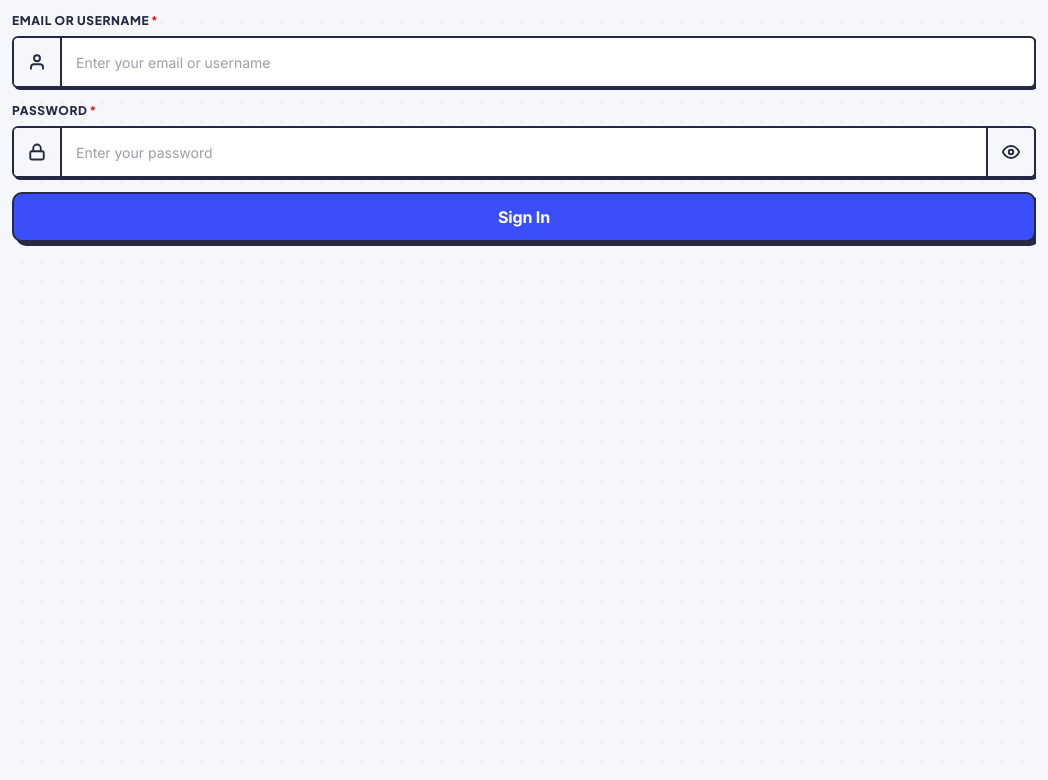
it: SigninForm Component › validates missing fields on submit
What coordinates should you click on to do the following:
click the button "Sign In"
I would click on:
 (524, 217)
Its box is [12,192,1036,242].
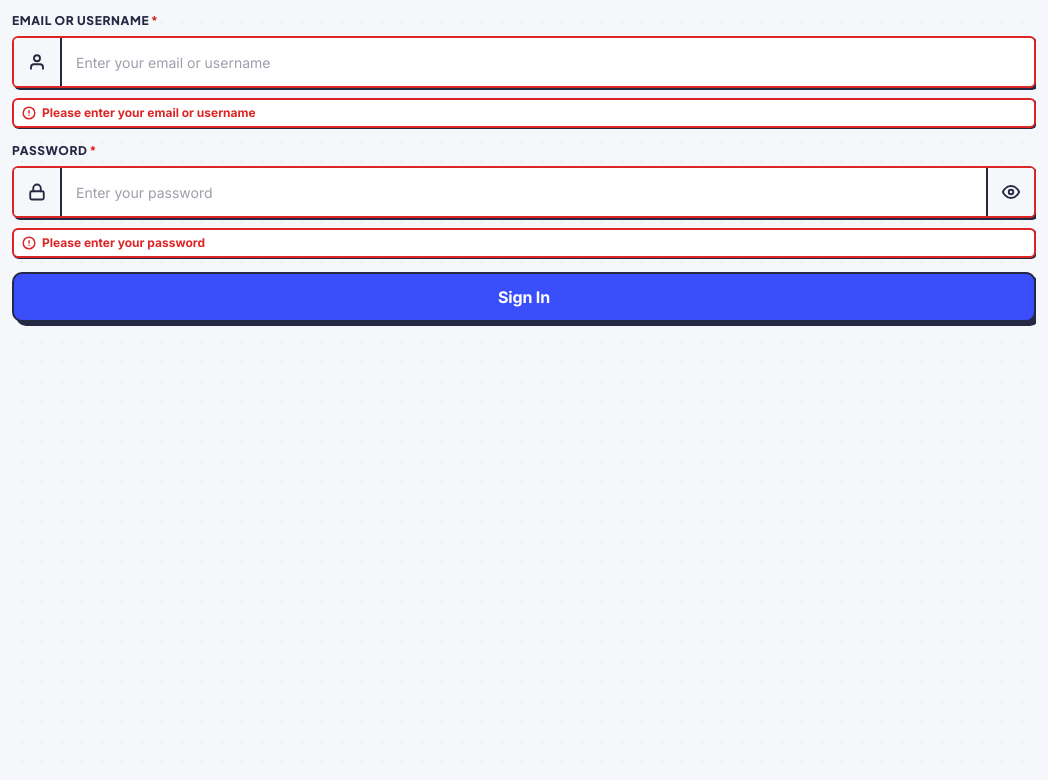
Now the text "Please enter your email or username" is shown, box [42,104,256,122]
Now the text "Please enter your password" is shown, box [42,234,205,252]
